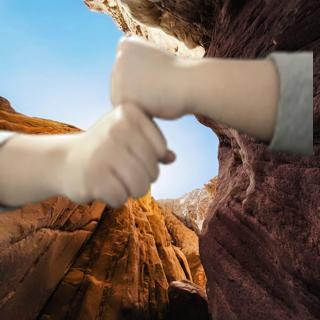CAREFUL: (30, 37, 290, 209)
